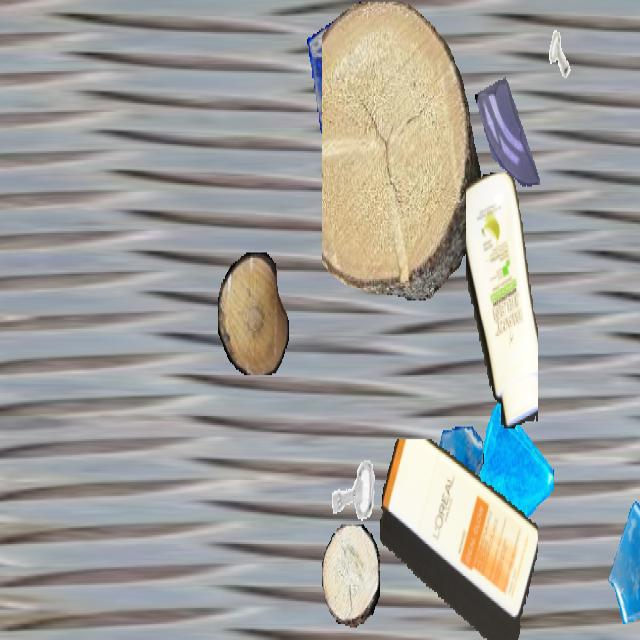glass: (460, 400, 554, 567), (307, 2, 399, 165), (474, 68, 544, 192), (424, 427, 484, 533), (608, 496, 640, 638)
metal: (379, 165, 437, 268), (326, 441, 382, 540), (541, 21, 579, 89)
plastic: (380, 439, 538, 638), (466, 172, 538, 428)
wood: (322, 2, 480, 300), (218, 252, 288, 374), (322, 524, 380, 628)
